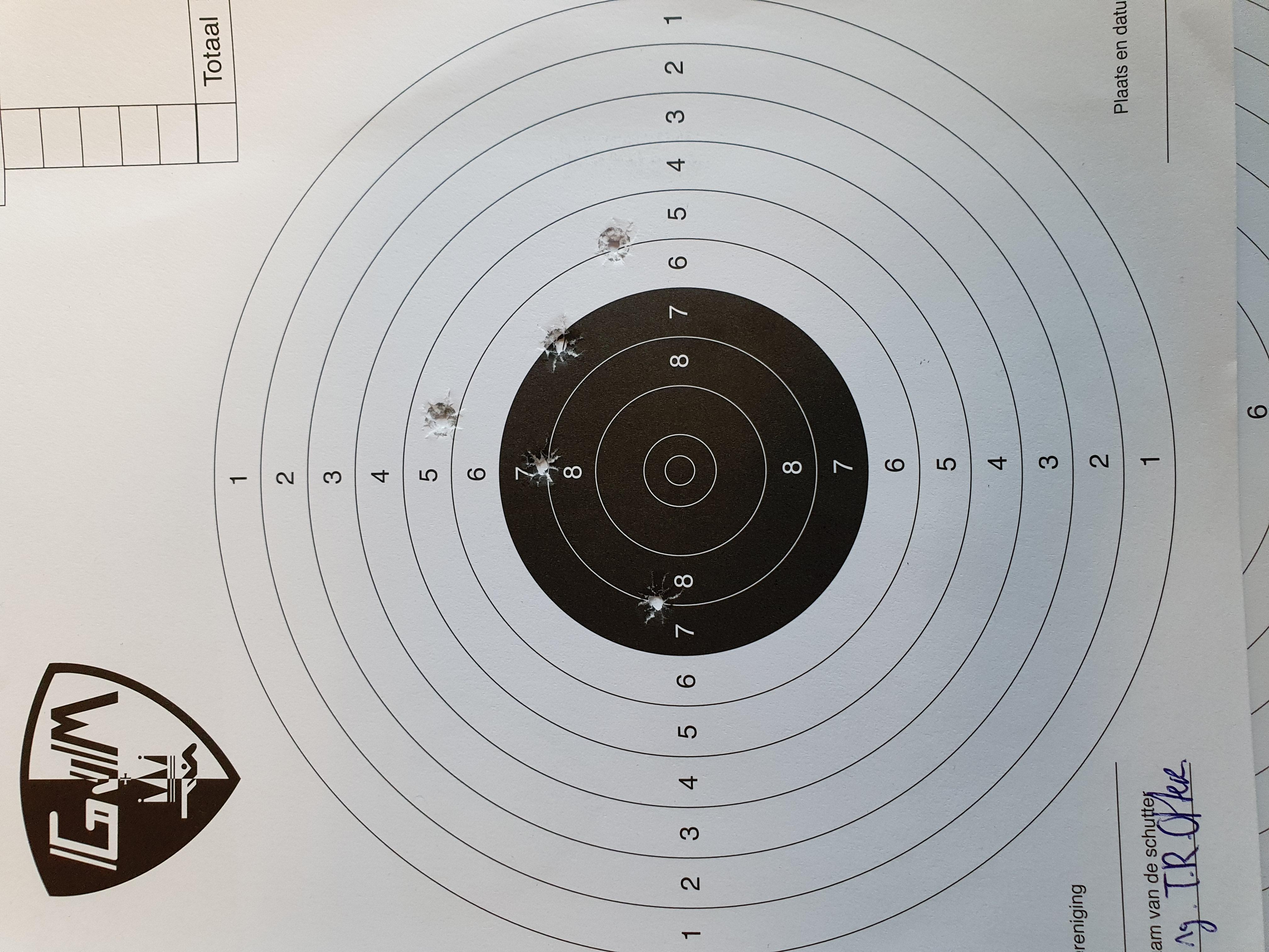hole: (433, 473, 498, 511), (619, 387, 682, 422), (910, 447, 978, 477), (684, 315, 742, 348), (782, 407, 842, 438)
